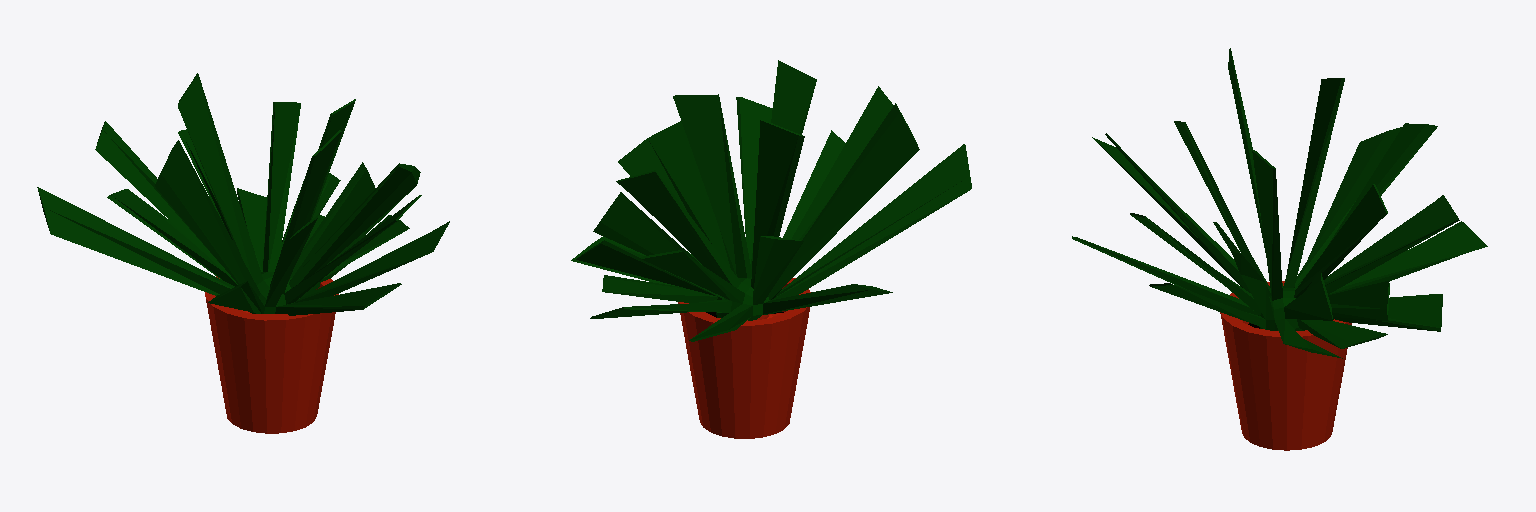
Rendered from BananaLeaf_Plant_RA.obj.
3 renders of one model, left to right at view 1: azimuth 30°, elevation 25°; view 2: azimuth 150°, elevation 25°; view 3: azimuth 270°, elevation 25°, orthographic.
Visible parts, largest first — view 1: BananaLeaf_Plant_RA:polySurface12 polySurface3; view 2: BananaLeaf_Plant_RA:polySurface12 polySurface3; view 3: BananaLeaf_Plant_RA:polySurface12 polySurface3.
Boxes of the visible parts, x1,y1,x2,y2 form: BananaLeaf_Plant_RA:polySurface12 polySurface3: [37, 73, 449, 433]; BananaLeaf_Plant_RA:polySurface12 polySurface3: [571, 60, 971, 438]; BananaLeaf_Plant_RA:polySurface12 polySurface3: [1072, 48, 1487, 450].
Bounding box in the file's own units: 5.66 × 5.42 × 6.17.